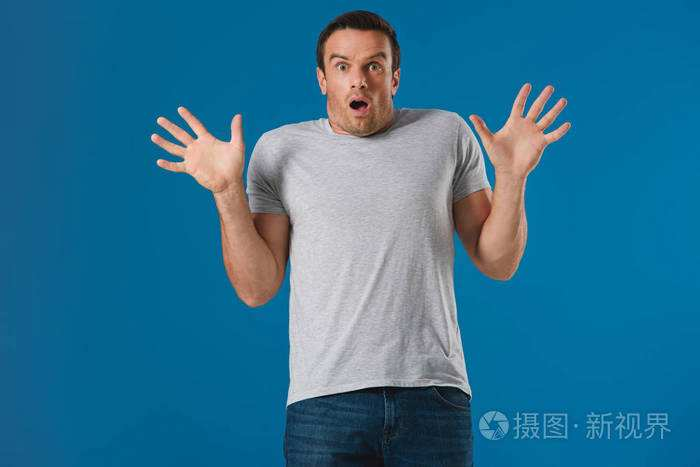no-phone: (467, 80, 576, 175), (146, 103, 253, 190)
